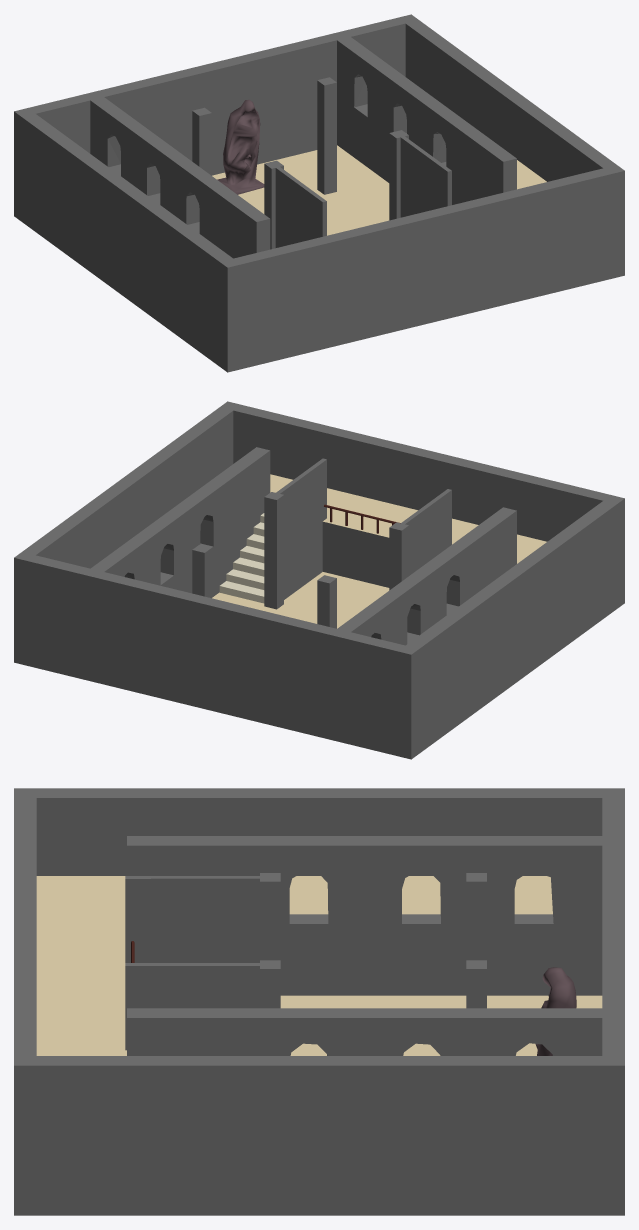
Rendered from temple.fbx.
The picture shows the model from 3 angles, top to bottom: view 1: azimuth 30°, elevation 25°; view 2: azimuth 150°, elevation 25°; view 3: azimuth 270°, elevation 25°; orthographic projection. The views are drawn at different scales.
Visible parts, largest first — view 1: Plane.003; view 2: Plane.003; view 3: Plane.003.
Part boxes in pixels (x1,y1,x2,y2): Plane.003: (14, 14, 624, 372); Plane.003: (14, 401, 624, 759); Plane.003: (14, 788, 624, 1215).
Bounding box in the file's own units: 3042 × 800 × 2833.
